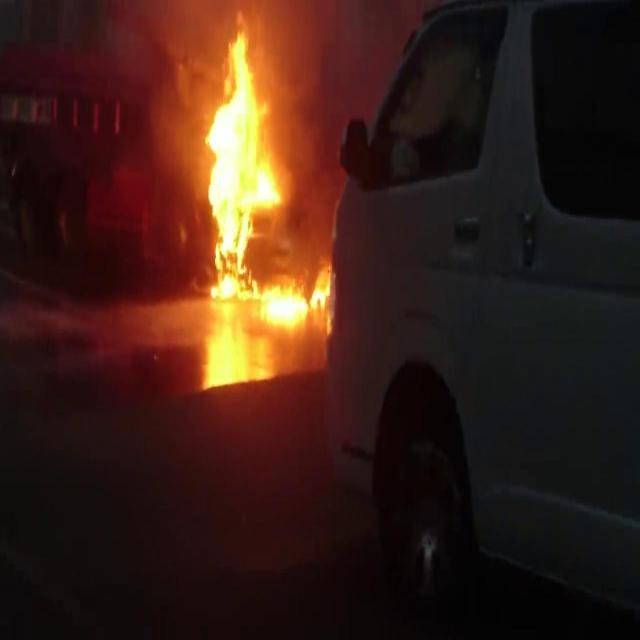Fire: (204, 34, 280, 298), (262, 262, 334, 324)
